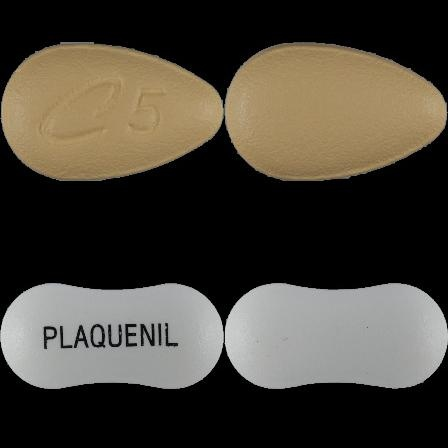43353-044: (0, 0, 224, 224)
